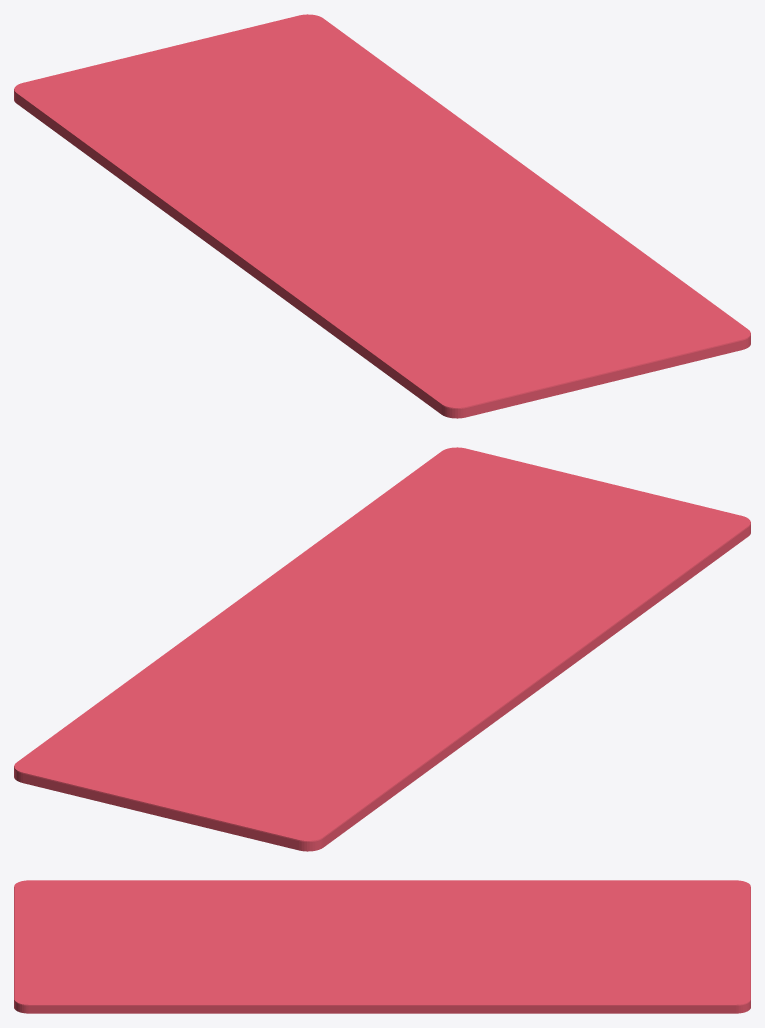
Rendered from ConferenceTabletop.fbx.
3 views of the same model, one above another, from view 1: azimuth 30°, elevation 25°; view 2: azimuth 150°, elevation 25°; view 3: azimuth 270°, elevation 25° (orthographic). The views are drawn at different scales.
Visible parts, largest first — view 1: obj_0; view 2: obj_0; view 3: obj_0.
Boxes of the visible parts, x1,y1,x2,y2 form: obj_0: (14, 14, 750, 418); obj_0: (14, 447, 750, 851); obj_0: (14, 880, 750, 1013).
Bounding box in the file's own units: 3000 × 97.22 × 7500.
